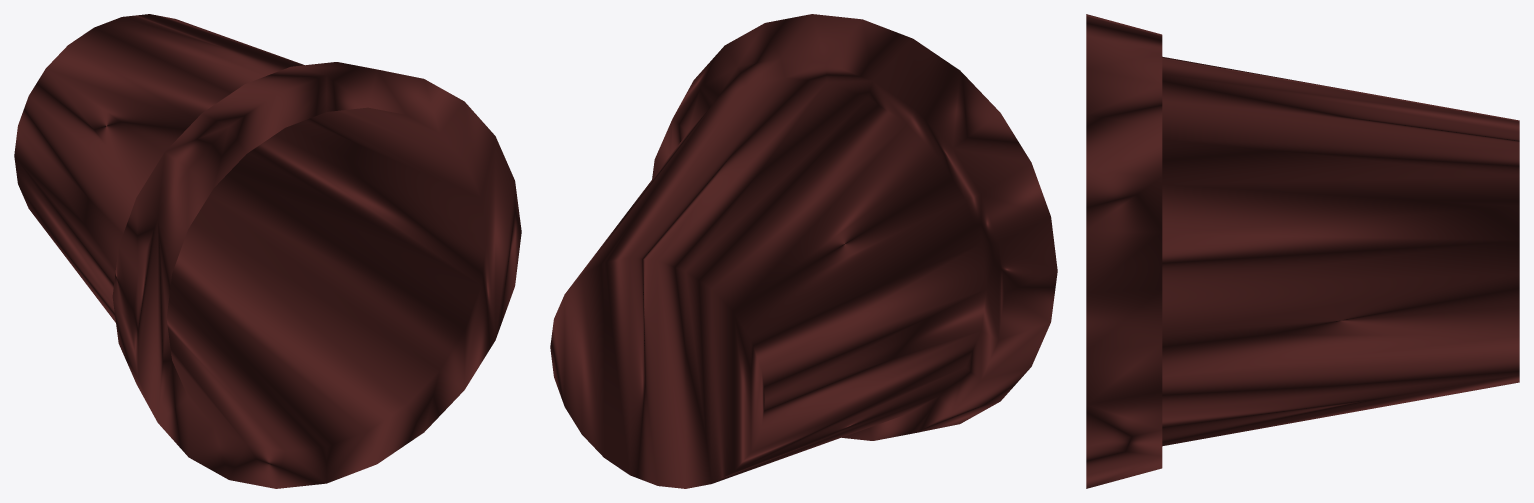
File: model_align.obj
3 views of the same model, side by side, from view 1: azimuth 30°, elevation 25°; view 2: azimuth 150°, elevation 25°; view 3: azimuth 270°, elevation 25° (orthographic). The views are drawn at different scales.
Bounding box in the file's own units: 0.0919 × 0.0919 × 0.0835.
